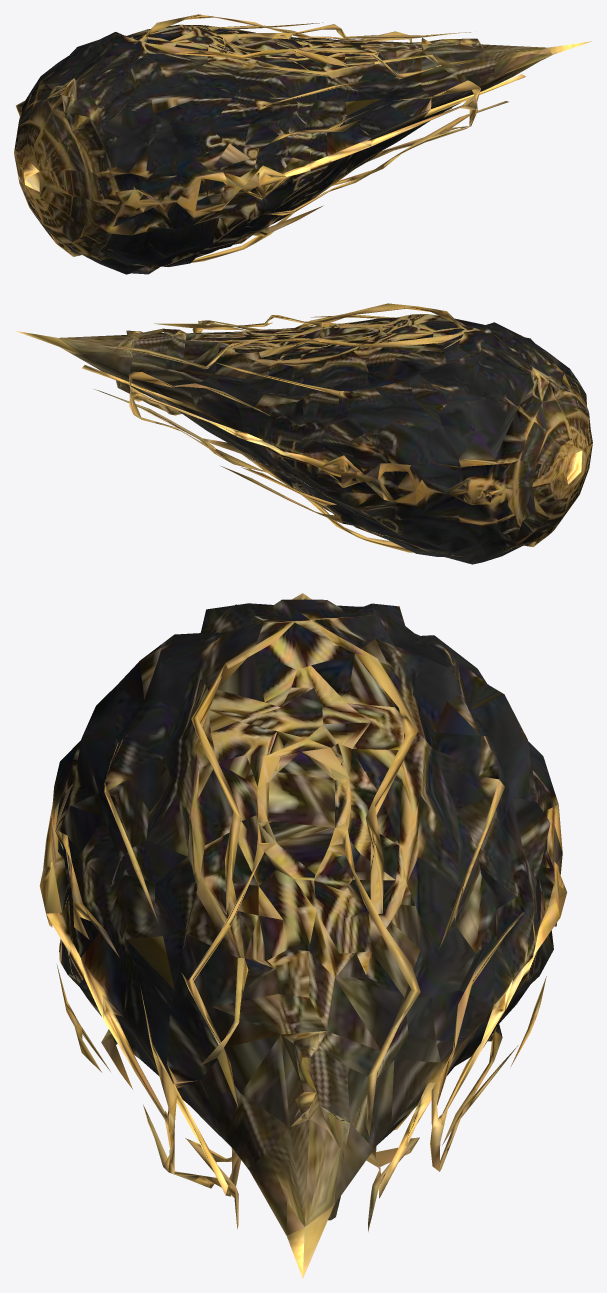
The model's file is comet_yellow_01.glb.
3 renders of one model, top to bottom at view 1: azimuth 30°, elevation 25°; view 2: azimuth 150°, elevation 25°; view 3: azimuth 270°, elevation 25°, orthographic. The views are drawn at different scales.
Visible parts, largest first — view 1: Mesh_0; view 2: Mesh_0; view 3: Mesh_0.
Boxes of the visible parts, left/top/right/bottom form: Mesh_0: left=14, top=14, right=591, bottom=274; Mesh_0: left=15, top=303, right=592, bottom=564; Mesh_0: left=39, top=593, right=567, bottom=1278.
Size of the model in its own units: 1.83 by 0.6746 by 0.7364.
Materials: 1 (1 with a texture image).
